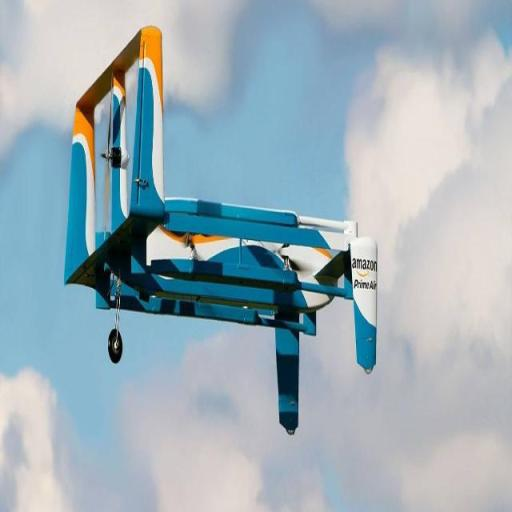uav: (66, 18, 386, 436)
